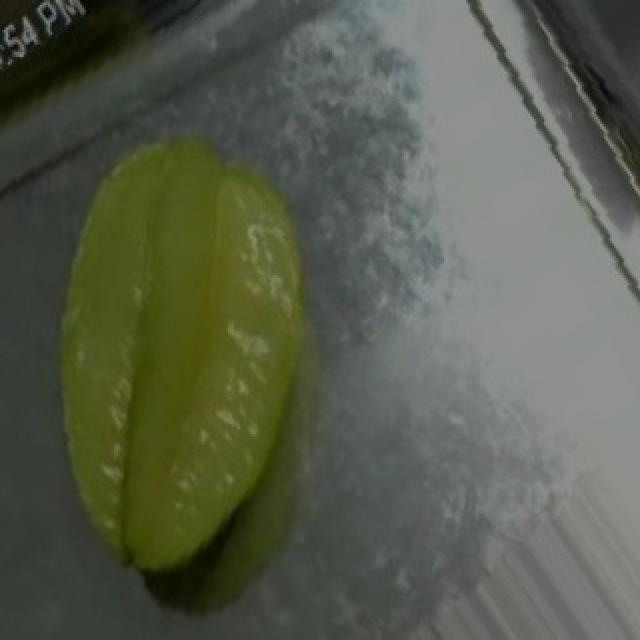fruit: (6, 74, 382, 437)
